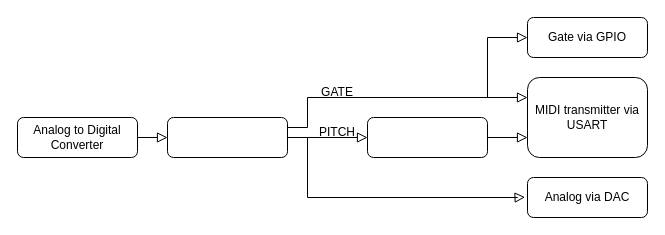
The diagram is 665 pixels wide and 235 high, and some of its shapes have lost their labels. Here are the shapes that lost their labels. From the top down, the centre of each, then its label:
(227,137): Ribbon Controller
(427,137): MIDI note converter
